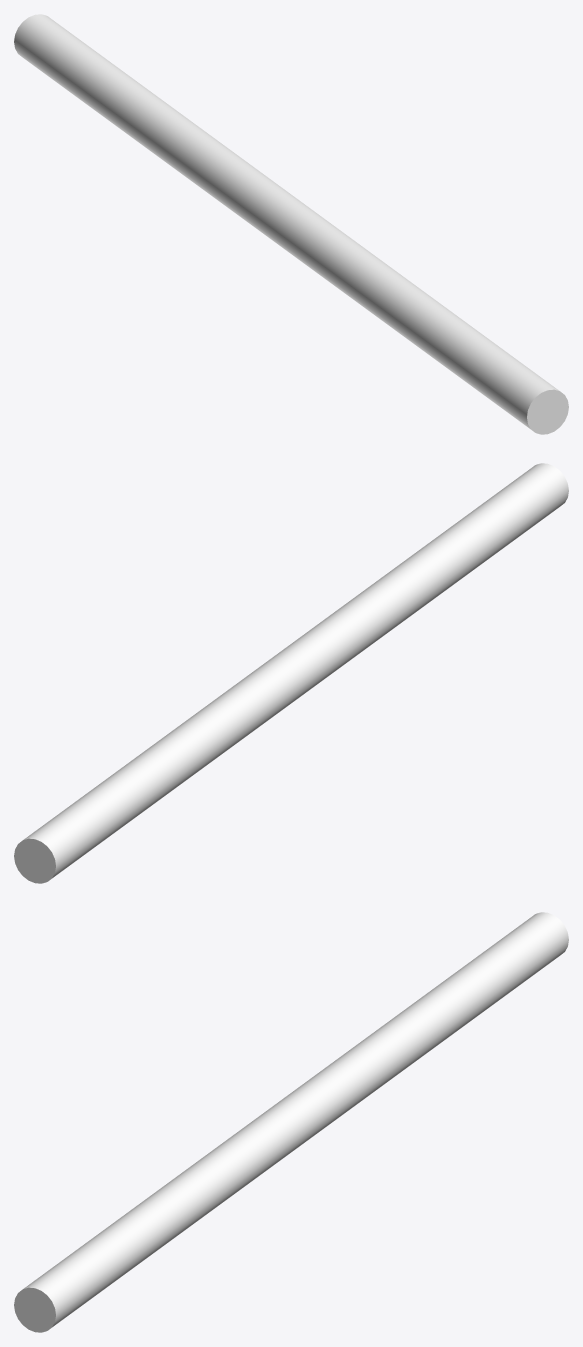
File: laser02.obj
3 renders of one model, top to bottom at view 1: azimuth 30°, elevation 25°; view 2: azimuth 150°, elevation 25°; view 3: azimuth 330°, elevation 25°, orthographic.
Visible parts, largest first — view 1: laser02:pCylinder1; view 2: laser02:pCylinder1; view 3: laser02:pCylinder1.
Part boxes in pixels (x1,y1,x2,y2): laser02:pCylinder1: (14,14,568,434); laser02:pCylinder1: (14,463,568,883); laser02:pCylinder1: (14,912,568,1332).
Size of the model in its own units: 0.575 by 0.575 by 12.14.
1 material, 1 textured.
